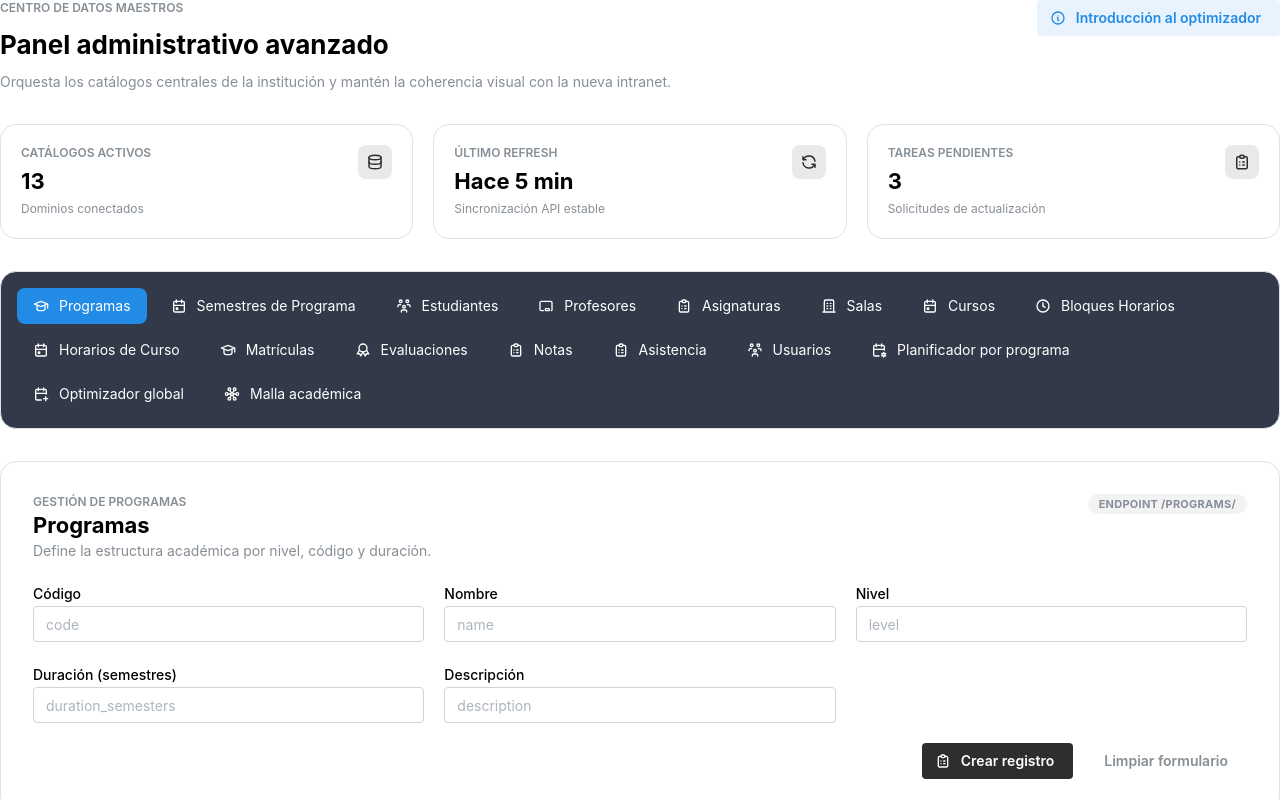
Test: Admin CRUD básico › muestra la introducción para el optimizador global
Click the button "Introducción al optimizador": (1158, 18) [1037,0,1279,36]
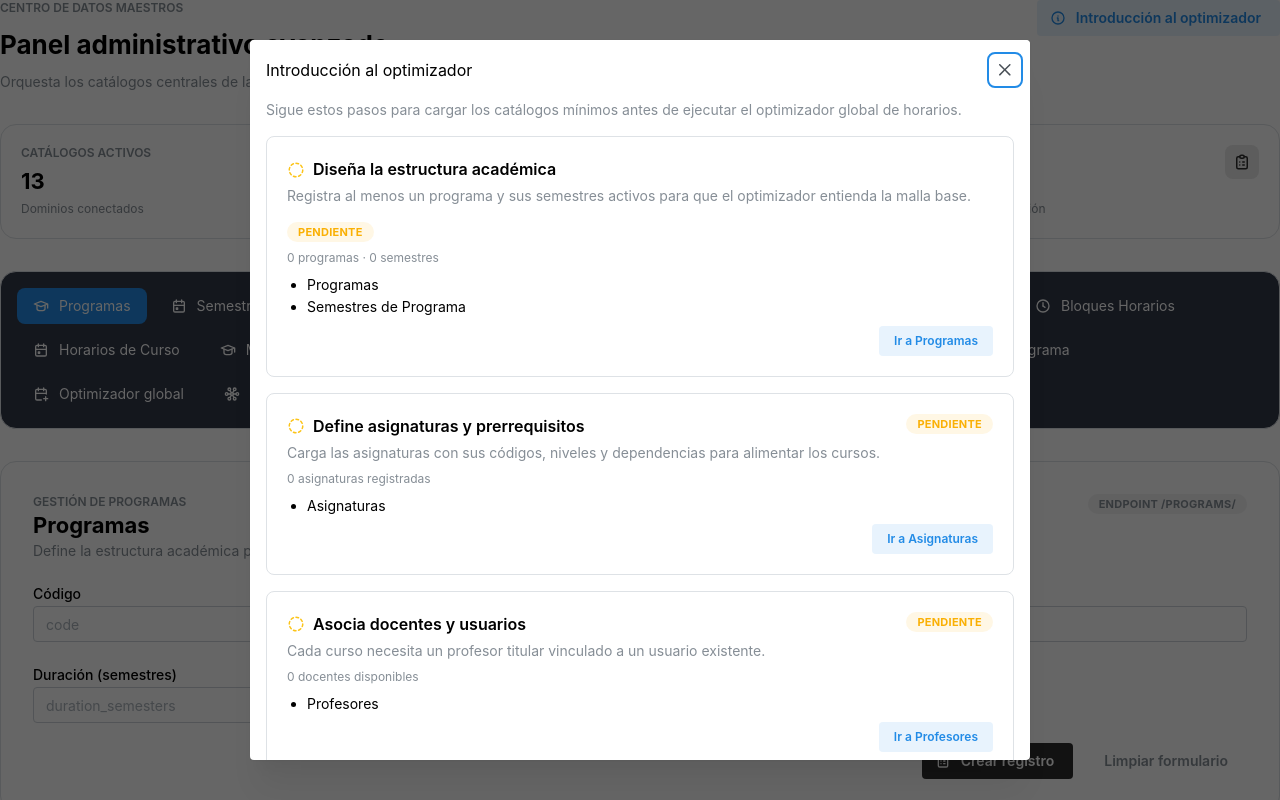
Expected: the heading "Introducción al optimizador" is shown, [266,62,472,78]
Expected: the text "Diseña la estructura académica" is shown, [313,157,556,182]
